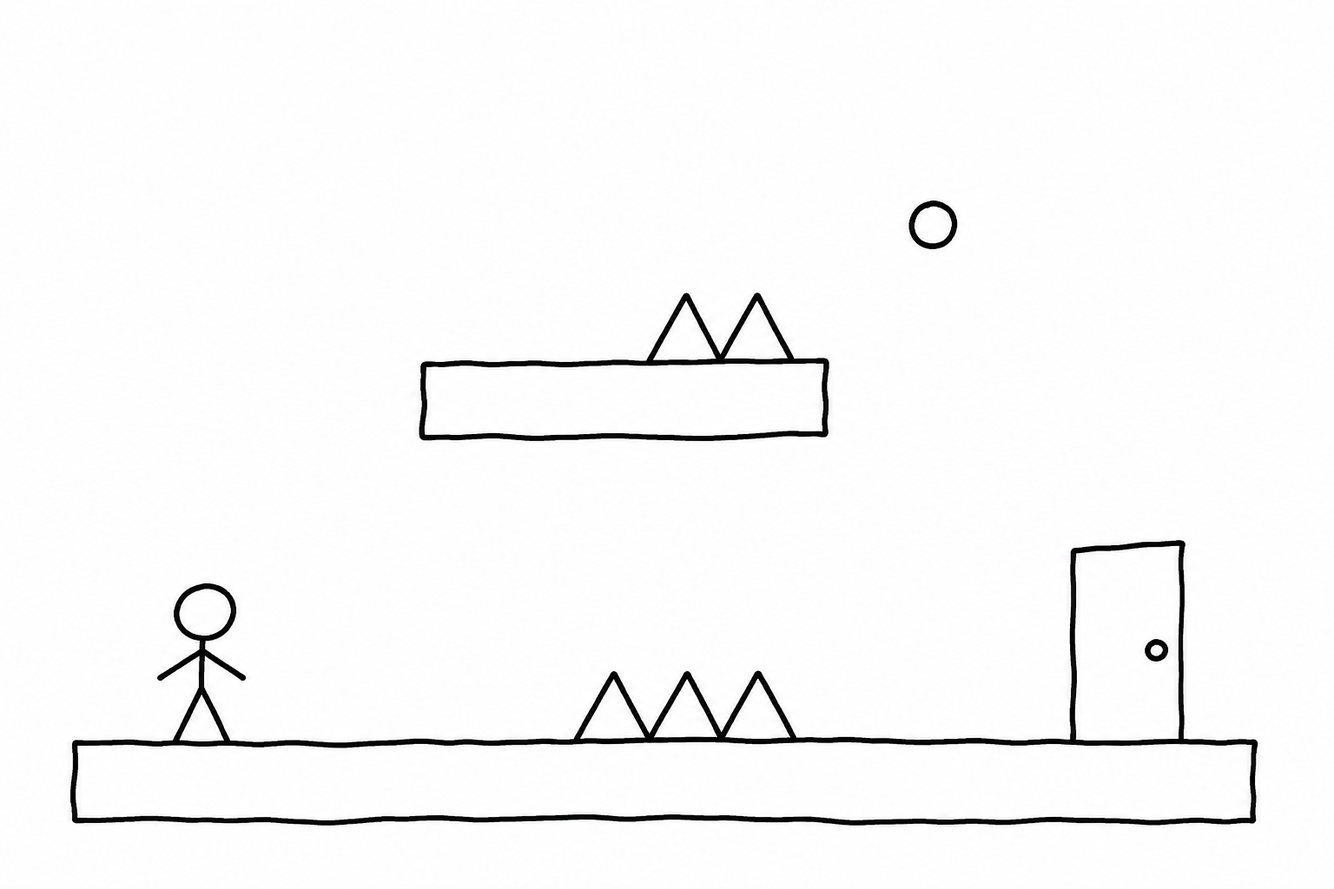collectible: (897, 192, 962, 259)
exit: (1045, 524, 1209, 755)
player: (145, 570, 259, 755)
spikes: (562, 659, 803, 753), (641, 286, 804, 375)
terrain: (47, 734, 1274, 830), (419, 354, 841, 448)
